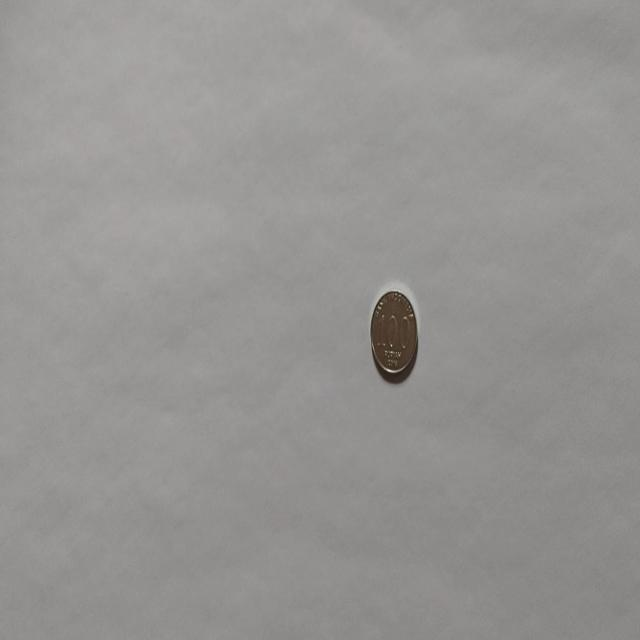seratus rupiah: (369, 287, 418, 379)
